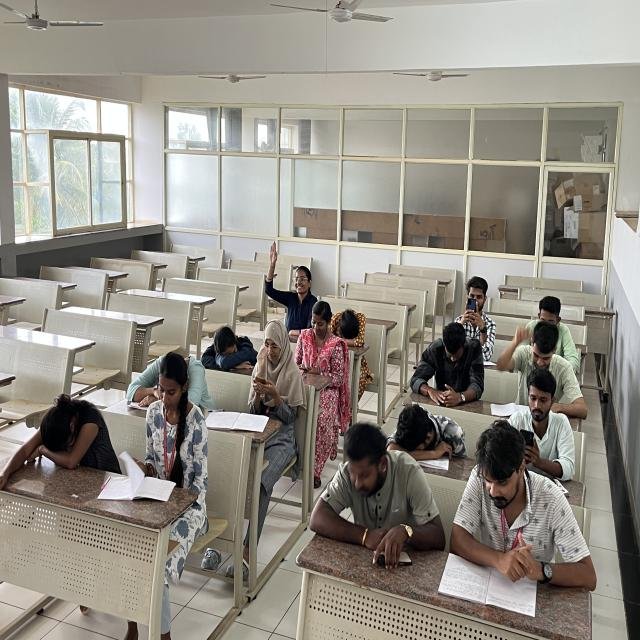Hand Rising: (260, 230, 322, 324)
Reading: (128, 354, 206, 498)
Sleeping: (115, 340, 217, 420), (24, 387, 116, 472), (386, 398, 468, 466), (201, 323, 260, 376), (332, 300, 370, 353)
Using Phone: (501, 367, 578, 481), (445, 277, 501, 352), (291, 300, 341, 383), (251, 323, 297, 410)
